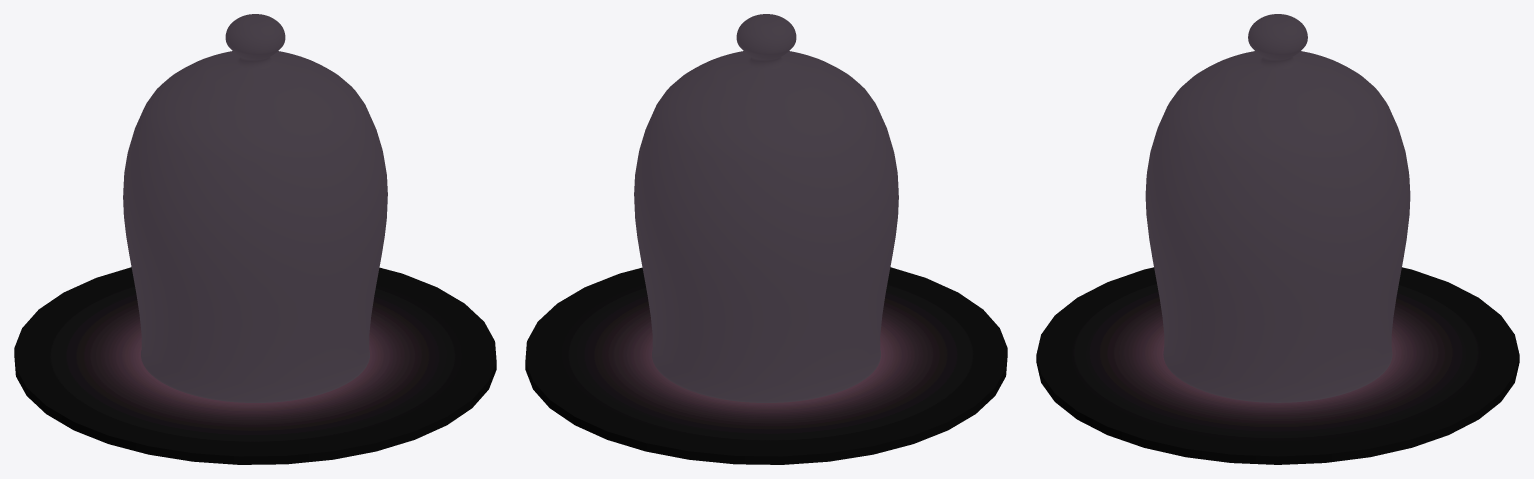
Rendered from beauty_and_the_beast_rose.glb.
The picture shows the model from 3 angles, left to right: view 1: azimuth 30°, elevation 25°; view 2: azimuth 150°, elevation 25°; view 3: azimuth 270°, elevation 25°; orthographic projection.
Parts seen in each view (by area): view 1: BezierCurve.001_2, Cylinder_3; view 2: BezierCurve.001_2, Cylinder_3; view 3: BezierCurve.001_2, Cylinder_3.
Part boxes in pixels (left/top/right/bottom): BezierCurve.001_2: left=123, top=14, right=387, bottom=402; Cylinder_3: left=14, top=267, right=496, bottom=464; BezierCurve.001_2: left=634, top=14, right=898, bottom=402; Cylinder_3: left=525, top=267, right=1007, bottom=464; BezierCurve.001_2: left=1145, top=14, right=1410, bottom=402; Cylinder_3: left=1036, top=267, right=1519, bottom=464.
Size of the model in its own units: 0.5455 by 0.4284 by 0.5455.
Materials: 3 (2 with a texture image).
